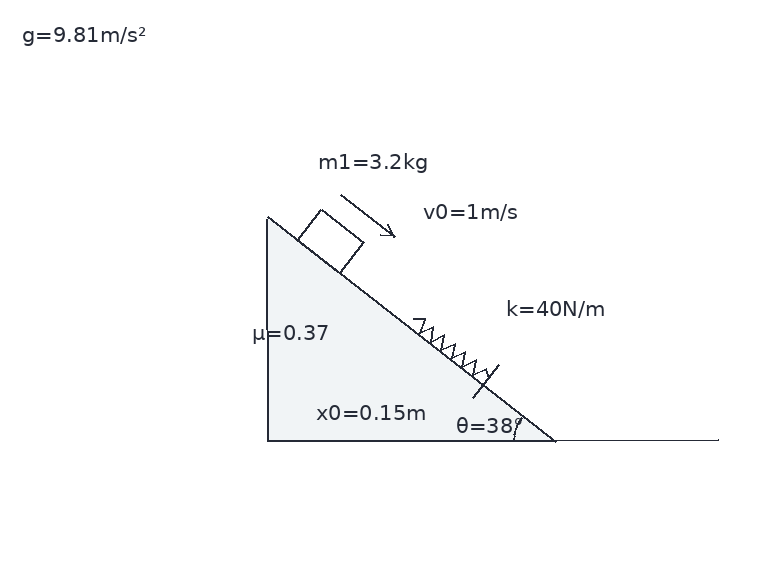block: (294, 207, 364, 275)
ramp: (265, 215, 556, 443)
spring: (411, 316, 490, 380)
